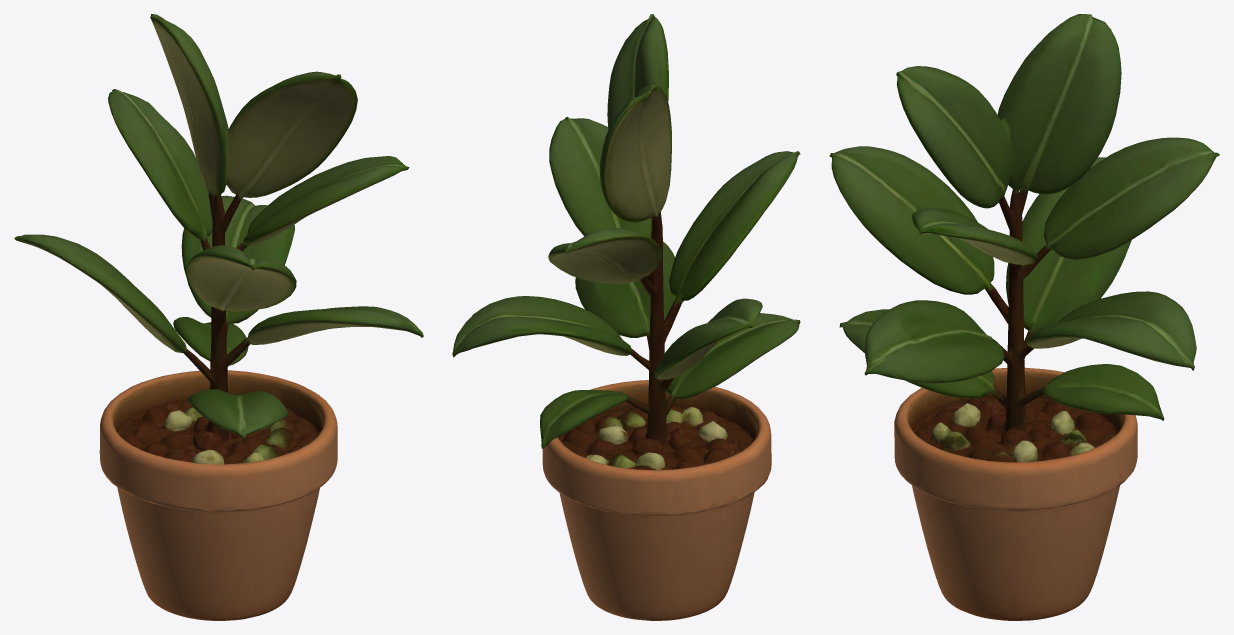
File: plant.glb
3 renders of one model, left to right at view 1: azimuth 30°, elevation 25°; view 2: azimuth 150°, elevation 25°; view 3: azimuth 270°, elevation 25°, orthographic. The views are drawn at different scales.
Parts seen in each view (by area): view 1: tripo_node_dddca5de-8fa2-4250-84a2-1d0880812826; view 2: tripo_node_dddca5de-8fa2-4250-84a2-1d0880812826; view 3: tripo_node_dddca5de-8fa2-4250-84a2-1d0880812826.
Part boxes in pixels (box(x1,y1,x2,y2)): tripo_node_dddca5de-8fa2-4250-84a2-1d0880812826: box(14, 14, 423, 620); tripo_node_dddca5de-8fa2-4250-84a2-1d0880812826: box(452, 14, 800, 620); tripo_node_dddca5de-8fa2-4250-84a2-1d0880812826: box(829, 14, 1219, 620).
Size of the model in its own units: 0.2502 by 0.45 by 0.2827.
1 material, 1 textured.
